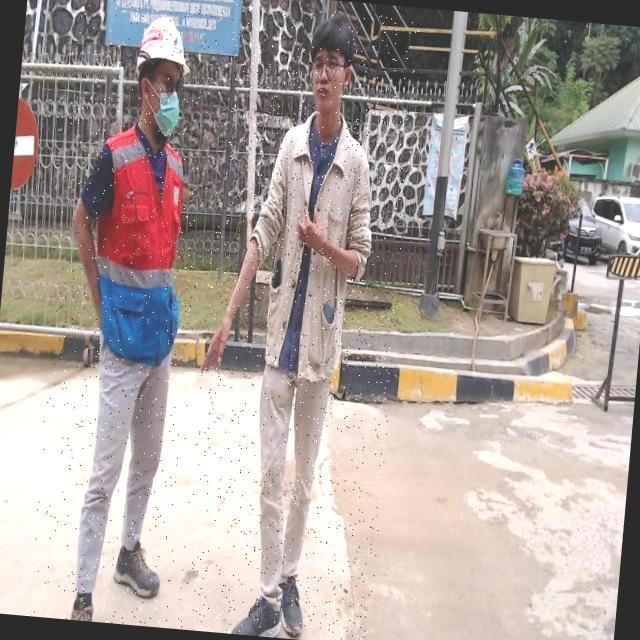helmet: (134, 12, 195, 79)
no-boots: (110, 540, 163, 603), (230, 590, 284, 638), (276, 578, 310, 640), (68, 590, 95, 622)
no-gloves: (290, 196, 342, 272), (192, 294, 242, 372)
no-helmet: (282, 21, 378, 138)
no-vest: (240, 102, 390, 392)
vest: (87, 124, 195, 366)
